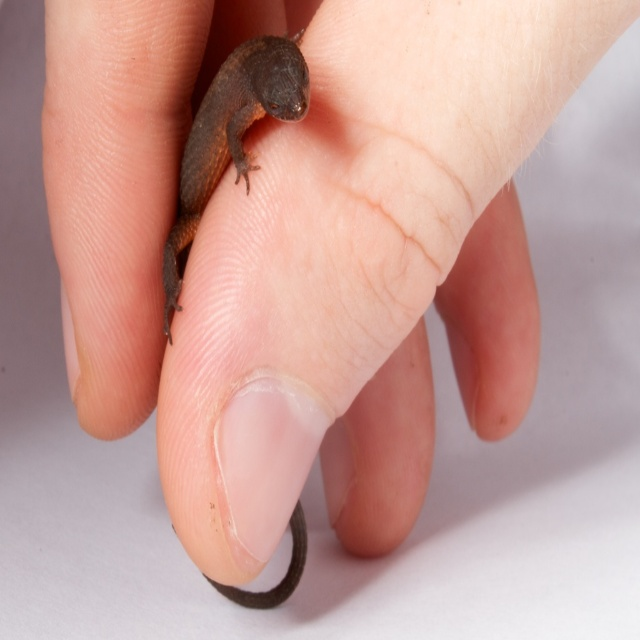Lizard: (169, 21, 317, 271)
